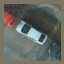car: (15, 18, 48, 46)
